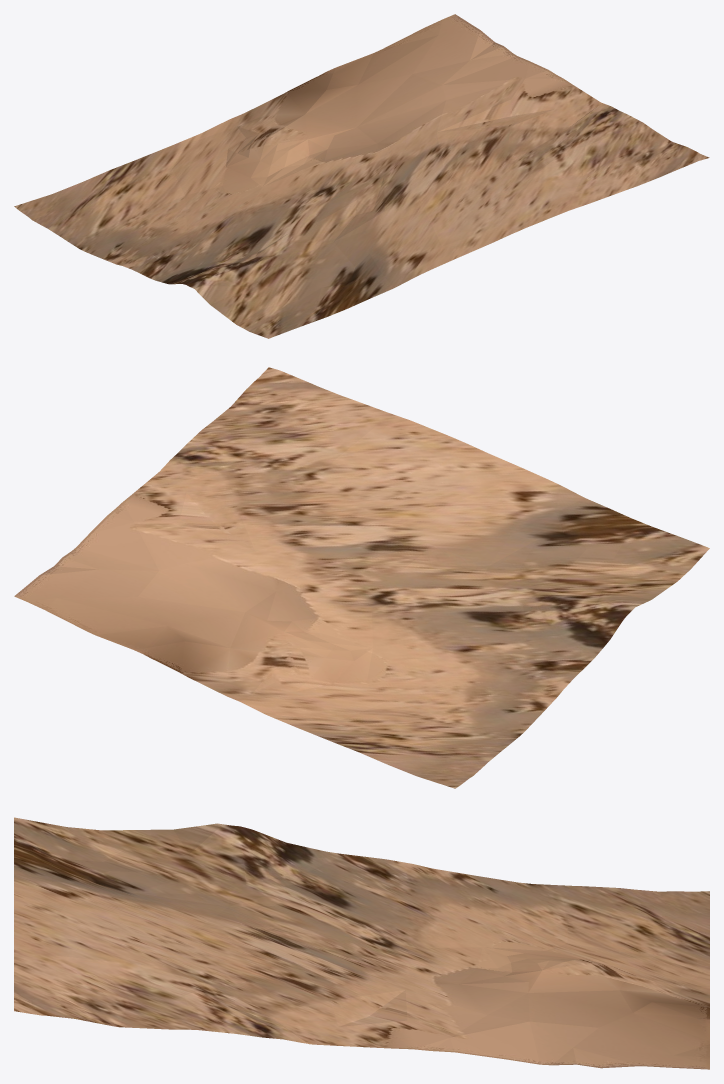
3 renders of one model, top to bottom at view 1: azimuth 30°, elevation 25°; view 2: azimuth 150°, elevation 25°; view 3: azimuth 270°, elevation 25°, orthographic. The views are drawn at different scales.
Size of the model in its own units: 2.09 by 0.5788 by 2.09.
2 materials, 2 textured.
